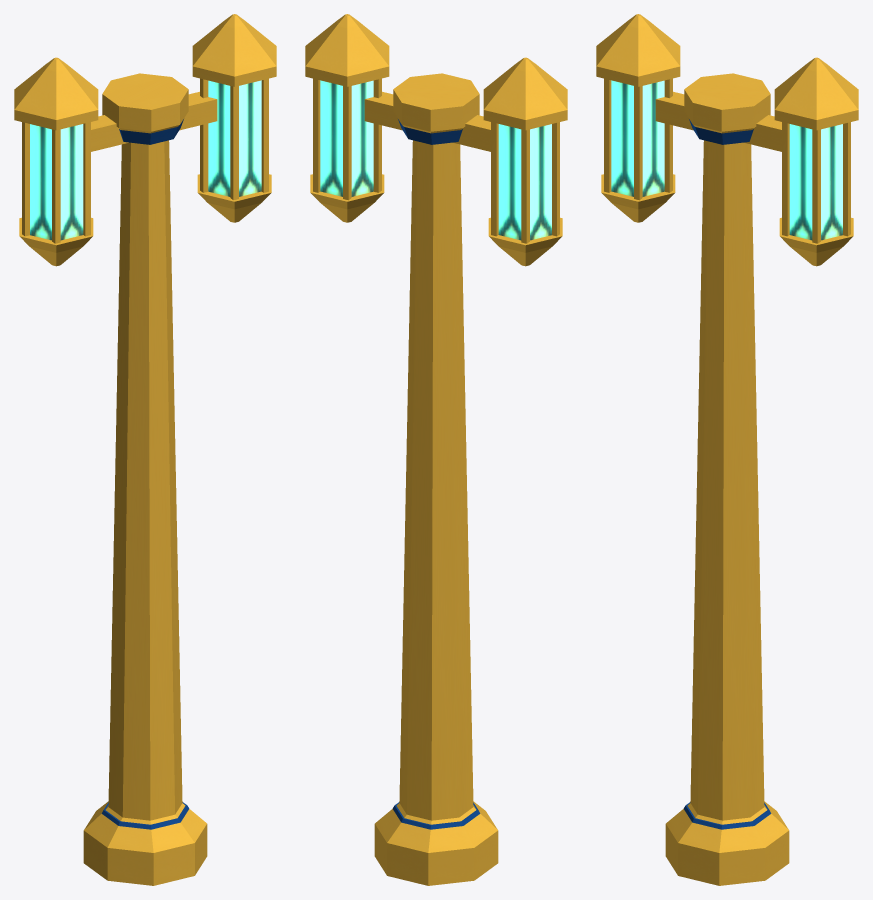
File: rc_light_post_twin.glb
3 views of the same model, side by side, from view 1: azimuth 30°, elevation 25°; view 2: azimuth 150°, elevation 25°; view 3: azimuth 330°, elevation 25° (orthographic).
Parts seen in each view (by area): view 1: SM_RC_Light_PostTwin_1x3; view 2: SM_RC_Light_PostTwin_1x3; view 3: SM_RC_Light_PostTwin_1x3.
Boxes of the visible parts, box(x1,y1,x2,y2) form: SM_RC_Light_PostTwin_1x3: box(14, 14, 276, 885); SM_RC_Light_PostTwin_1x3: box(305, 14, 567, 885); SM_RC_Light_PostTwin_1x3: box(596, 14, 858, 885).
Bounding box in the file's own units: 1 × 3 × 0.38.
Materials: 1 (1 with a texture image).
